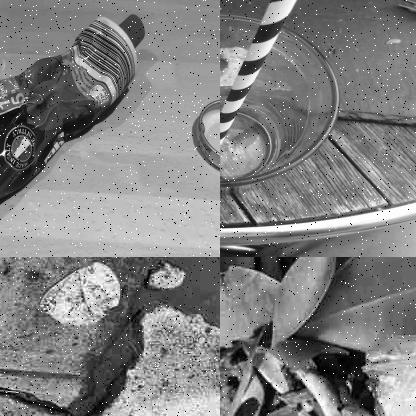glass: (220, 18, 342, 190)
metal: (198, 90, 219, 180)
plastic: (0, 11, 188, 256), (220, 0, 353, 178), (46, 259, 123, 329), (360, 333, 415, 415)
